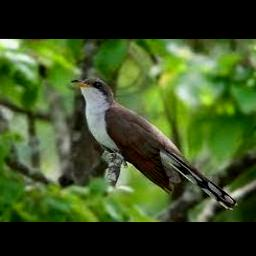Cuckoo: (71, 77, 238, 211)
